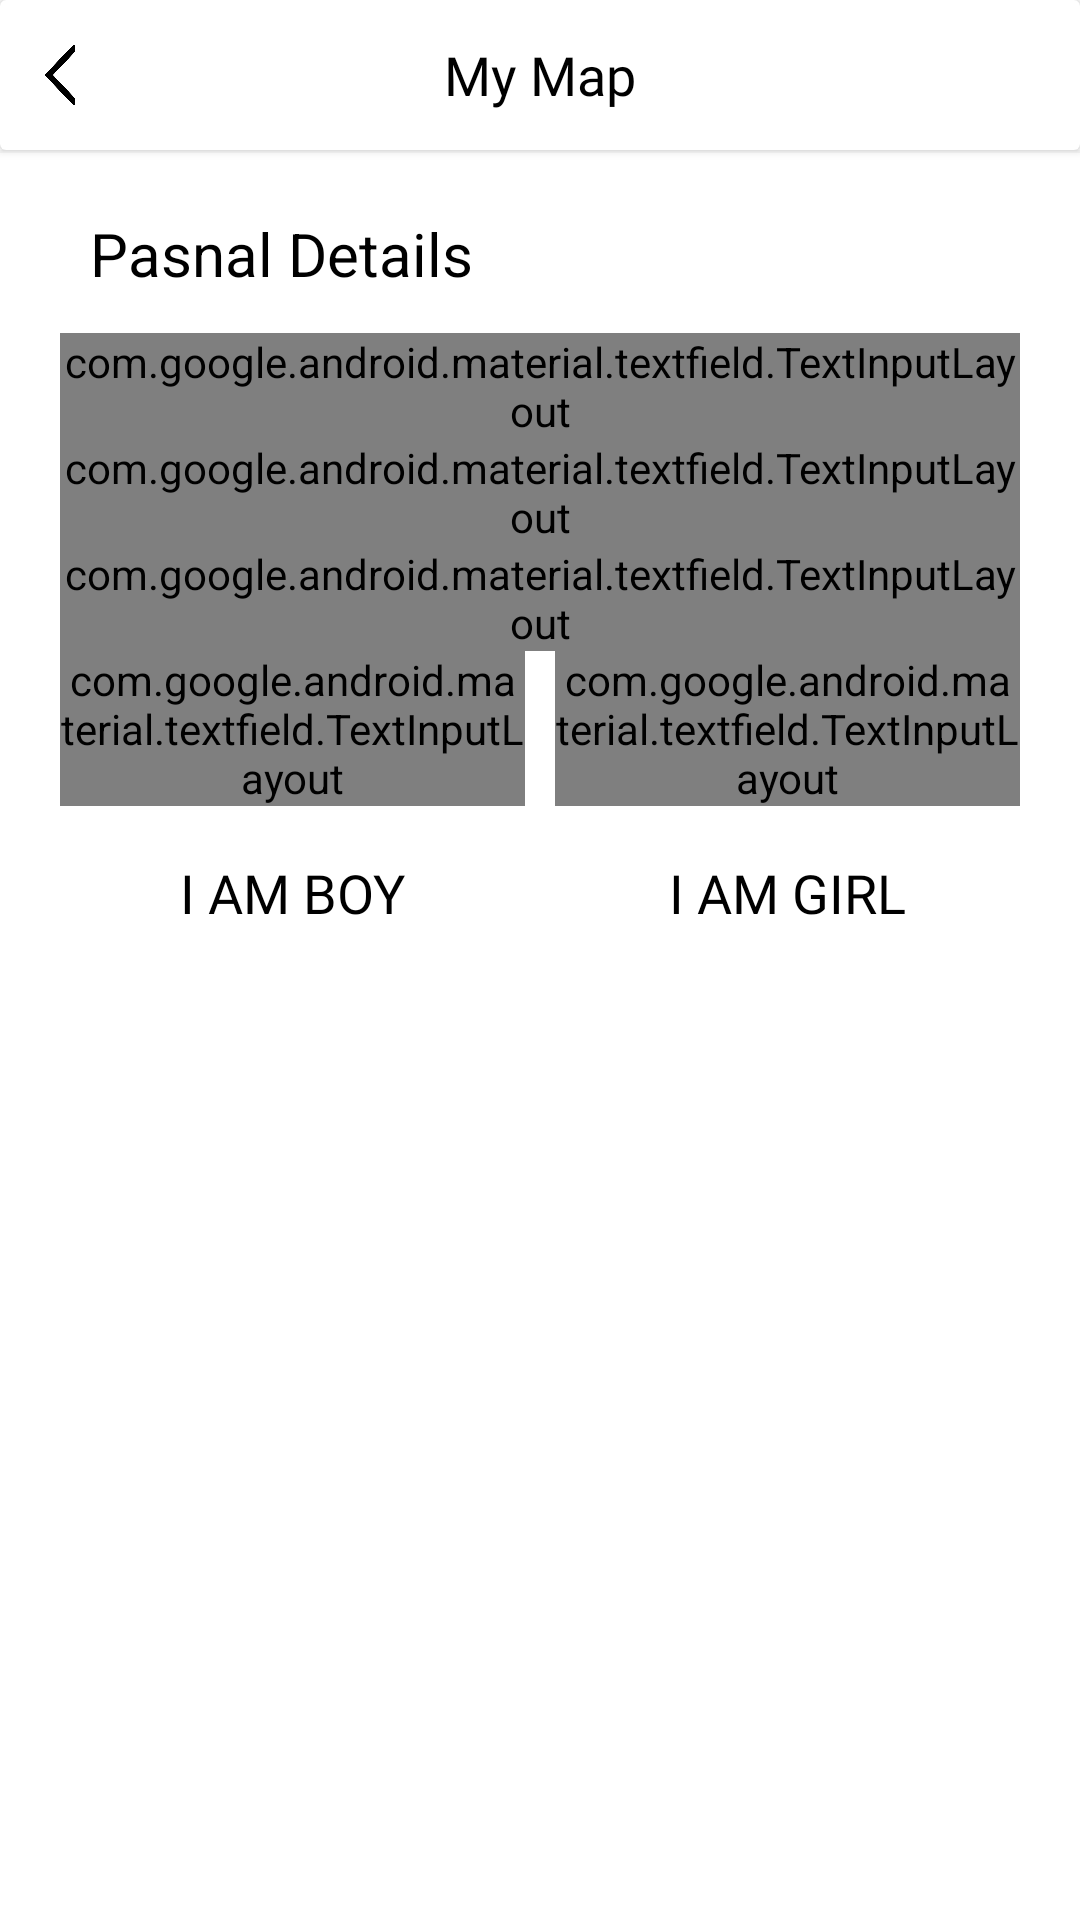

Point at icon controls on the screen. Image size 1080 × 1920, points as point (x, y).
left: point (60, 75)
